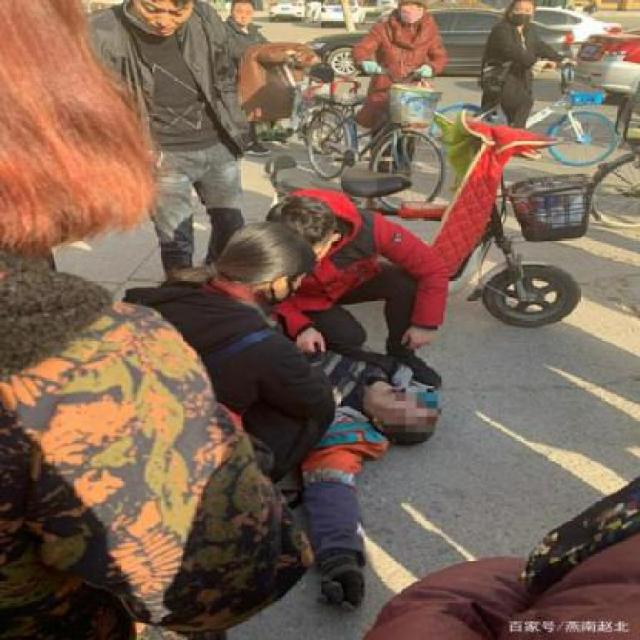fall: (259, 306, 446, 614)
